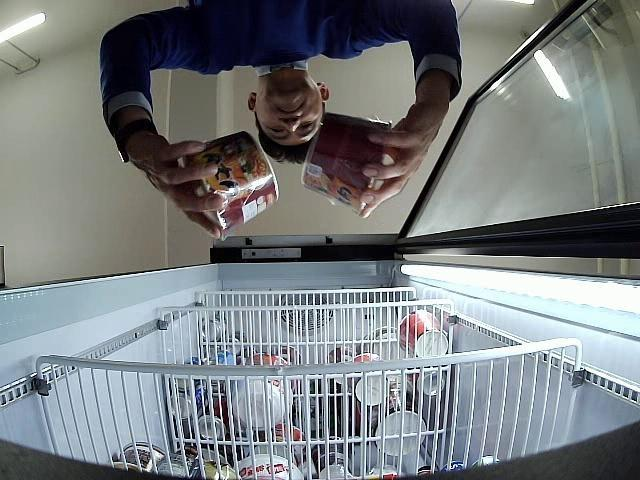05_nuguri_L: (182, 130, 280, 241), (300, 112, 393, 216)
